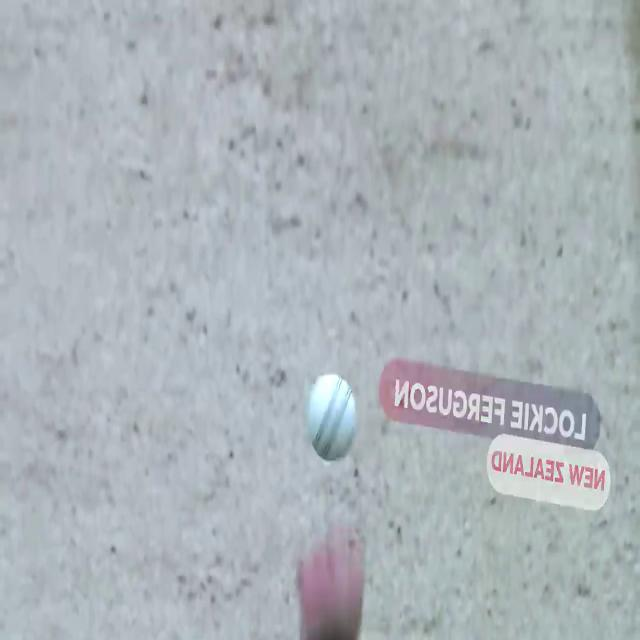ball: (300, 358, 360, 468)
